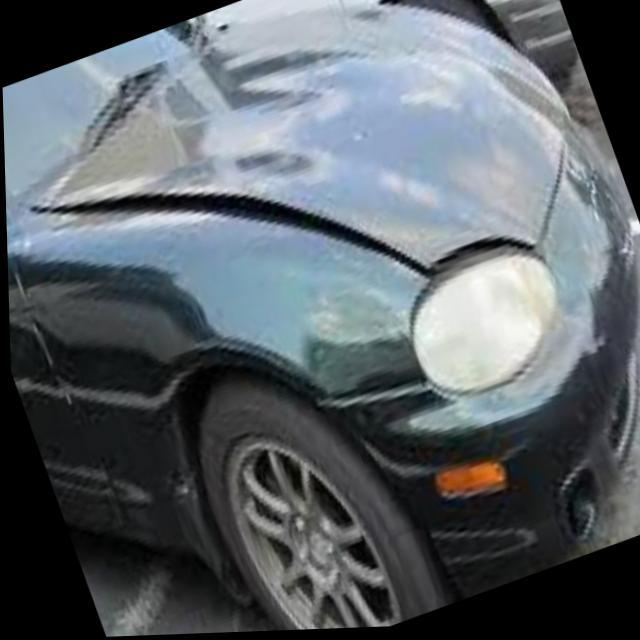dislocated part: (17, 173, 536, 288)
